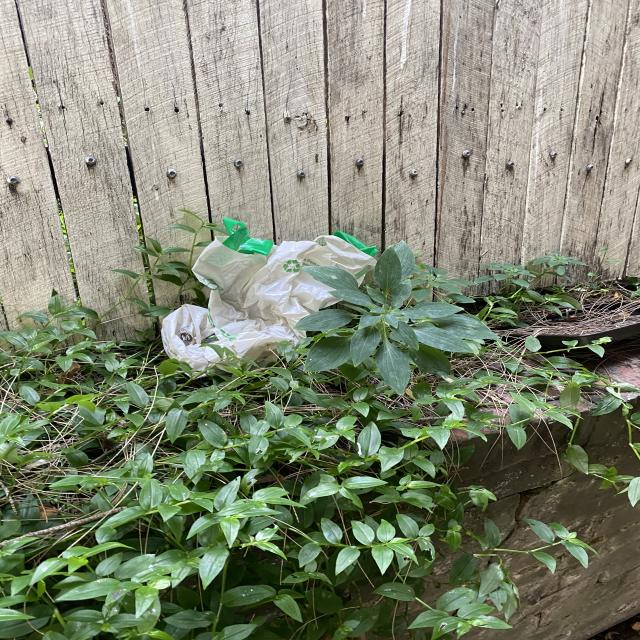bag: (161, 217, 377, 374)
